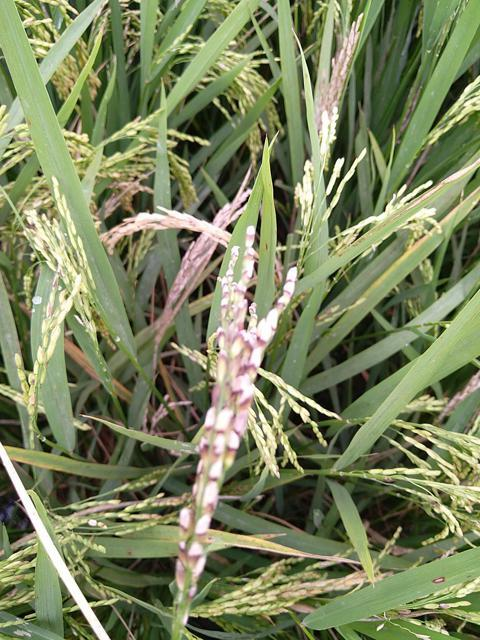Leaf Streak: (361, 167, 471, 238), (431, 576, 447, 586)
Panicle Blight: (176, 226, 297, 596), (99, 206, 232, 248), (316, 304, 342, 323), (151, 493, 185, 507), (28, 372, 37, 411), (257, 567, 273, 586), (296, 588, 323, 599), (277, 583, 291, 602), (398, 608, 421, 619), (46, 299, 55, 318), (51, 274, 60, 292), (140, 514, 160, 522), (438, 603, 450, 611)
